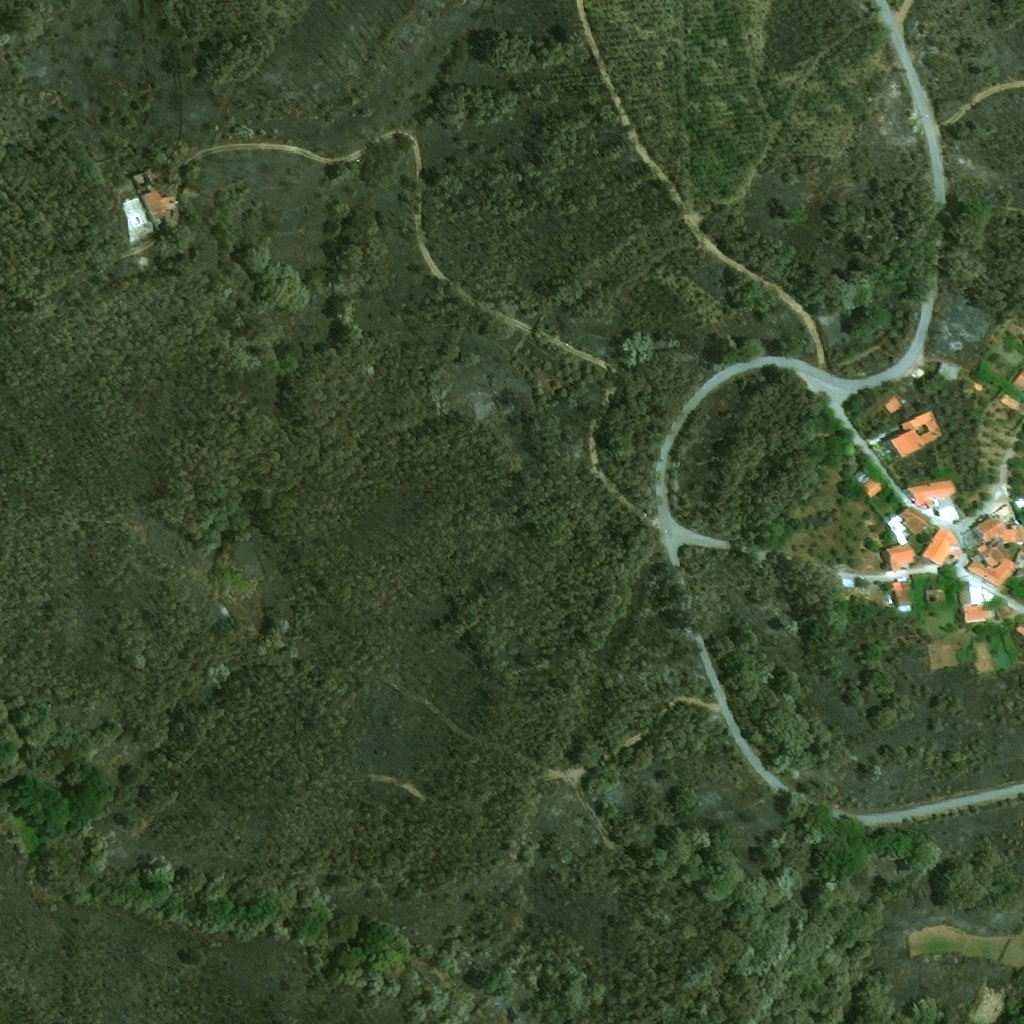0 no-damage: (887, 408, 944, 459), (975, 503, 1023, 544), (905, 475, 957, 506), (966, 557, 1019, 586), (138, 188, 175, 229), (922, 525, 959, 565), (974, 535, 1016, 566), (899, 504, 932, 535), (883, 542, 917, 571), (851, 468, 884, 497), (886, 513, 909, 544), (964, 603, 995, 622), (936, 498, 961, 518), (129, 169, 153, 189), (897, 578, 915, 604), (936, 361, 960, 379), (882, 396, 903, 414), (970, 585, 986, 603), (984, 586, 997, 600), (960, 589, 972, 603), (913, 368, 925, 381), (843, 578, 855, 588)
4 un-classified: (925, 587, 947, 605), (1012, 364, 1023, 389), (1017, 621, 1023, 635)
